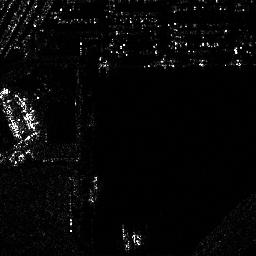ship: (88, 173, 99, 203)
